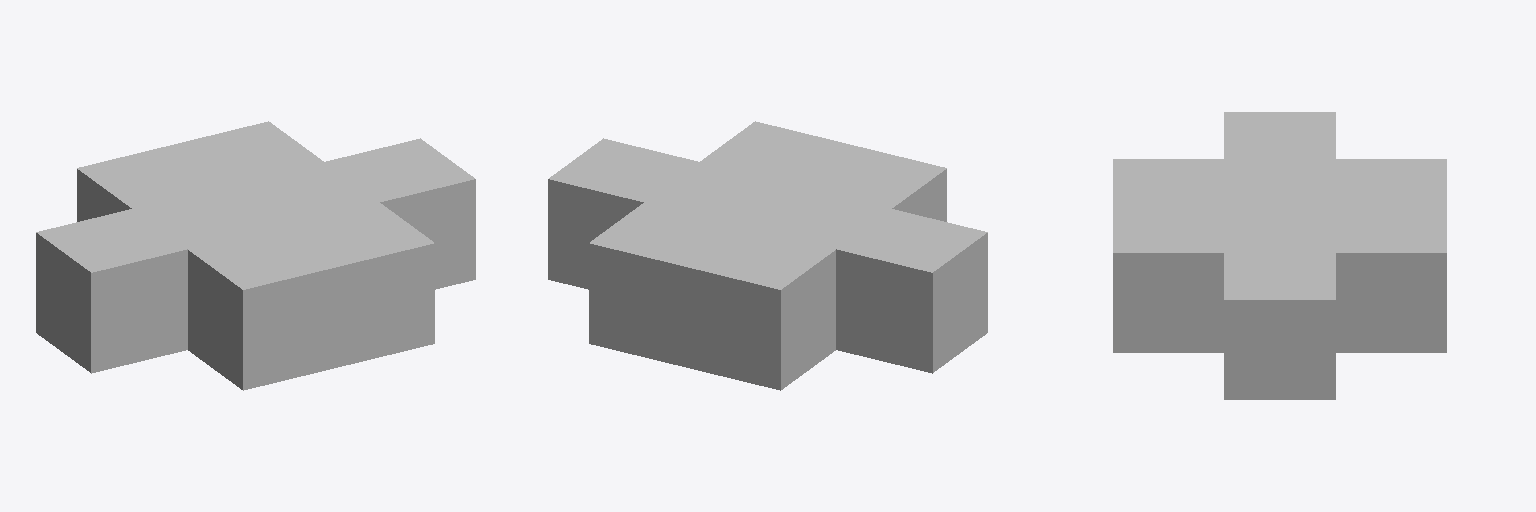
Rendered from leafGreen1-0.obj.
The picture shows the model from 3 angles: view 1: azimuth 30°, elevation 25°; view 2: azimuth 150°, elevation 25°; view 3: azimuth 270°, elevation 25°; orthographic projection.
Parts seen in each view (by area): view 1: object 1; view 2: object 1; view 3: object 1.
Part boxes in pixels (left/top/right/bottom): object 1: left=36, top=121, right=475, bottom=390; object 1: left=548, top=121, right=987, bottom=390; object 1: left=1113, top=112, right=1446, bottom=399.
Size of the model in its own units: 0.4 by 0.1 by 0.3.